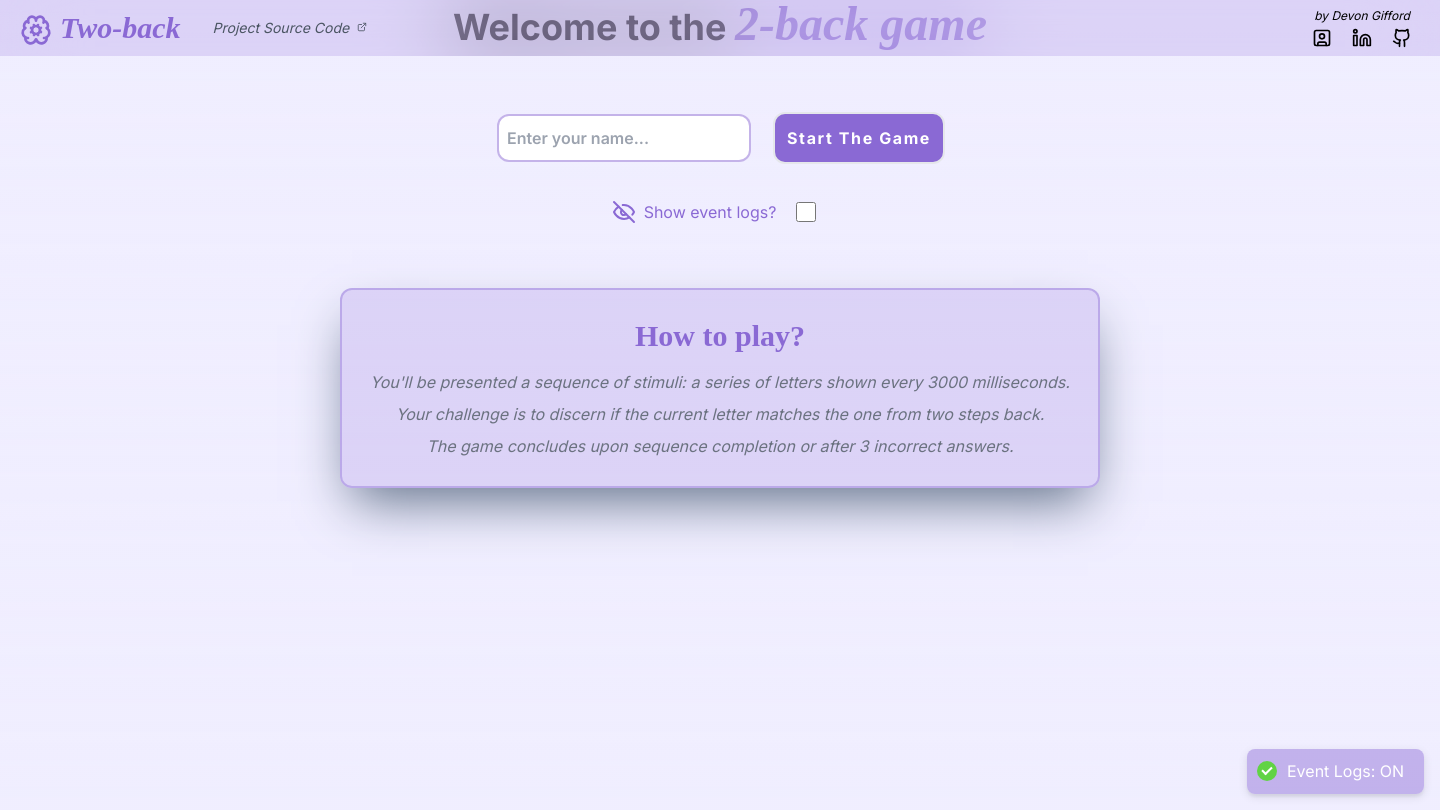
it: Toggle Event Logs Test › Toggle off, results in correct toast
Click the checkbox. click: (806, 212)
box: top-left (796, 202), bottom-right (816, 222)
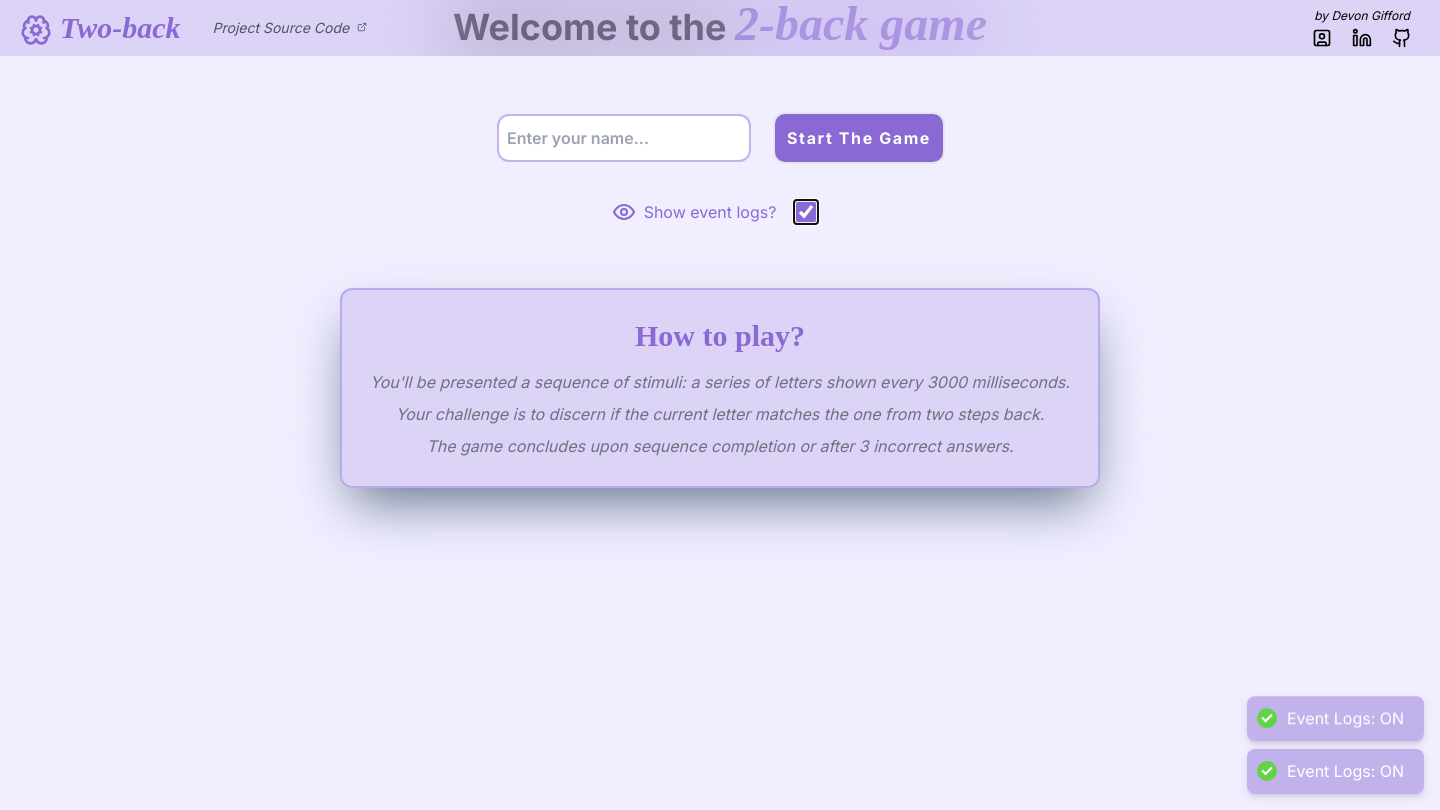
Result: the checkbox is checked
Click the checkbox. click: (806, 212)
box: top-left (796, 202), bottom-right (816, 222)
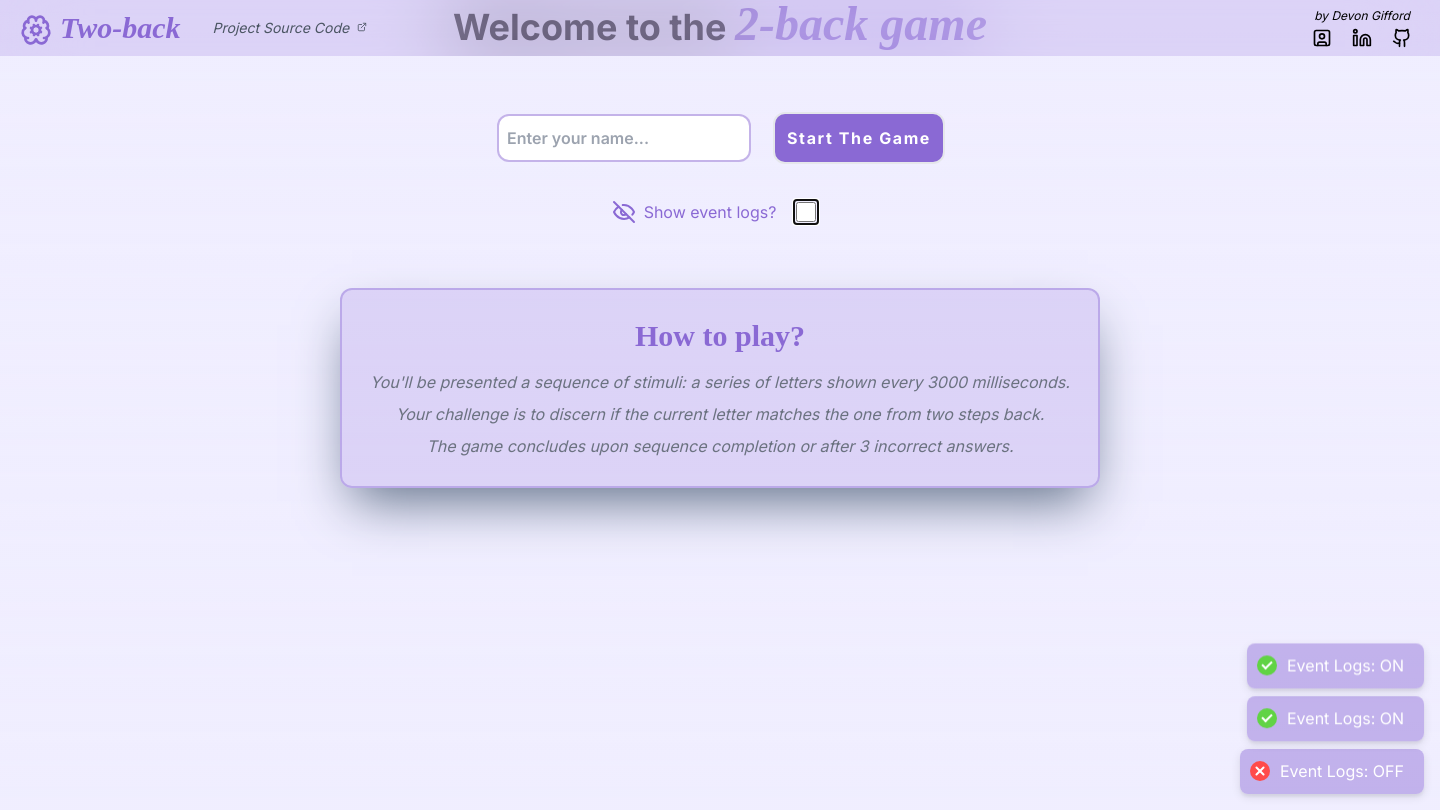
Result: the checkbox is not checked at top-left (796, 202), bottom-right (816, 222)
Result: the text "Event Logs: OFF" is shown at top-left (1280, 761), bottom-right (1404, 782)
